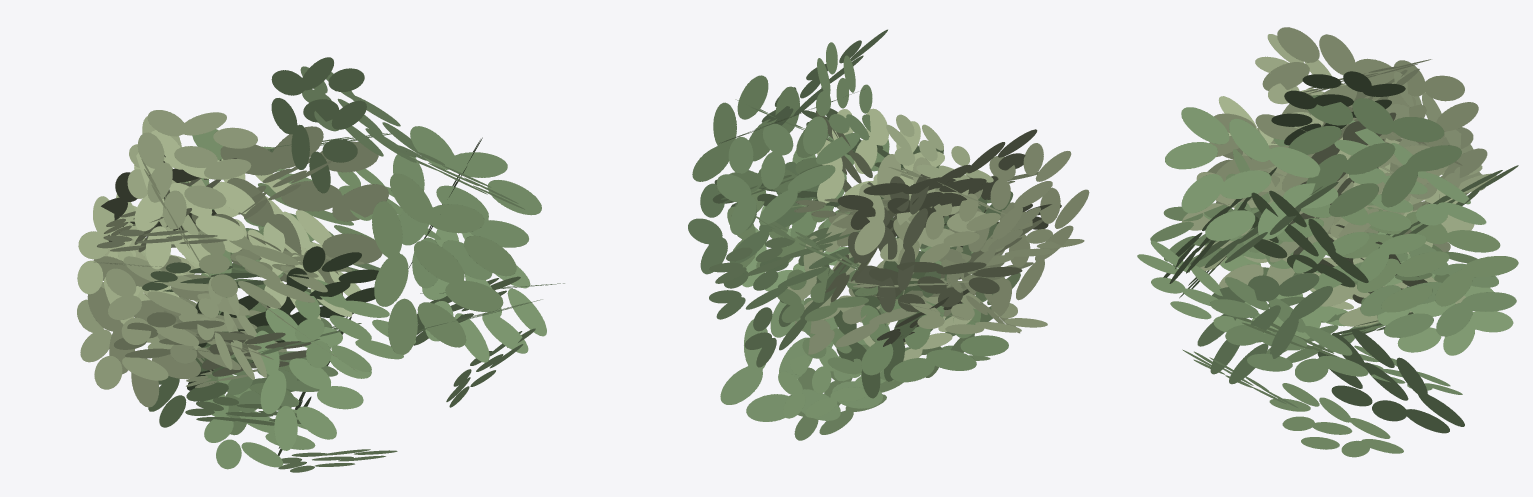
Rendered from campus-tree--7_-7-far.glb.
3 views of the same model, side by side, from view 1: azimuth 30°, elevation 25°; view 2: azimuth 150°, elevation 25°; view 3: azimuth 270°, elevation 25° (orthographic). The views are drawn at different scales.
Visible parts, largest first — view 1: Campus leaf canopy; view 2: Campus leaf canopy; view 3: Campus leaf canopy.
Boxes of the visible parts, bbox=[...] form: Campus leaf canopy: bbox=[77, 57, 564, 472]; Campus leaf canopy: bbox=[688, 29, 1089, 440]; Campus leaf canopy: bbox=[1137, 27, 1518, 457].
Bounding box in the file's own units: 6.18 × 5.62 × 4.59.
Materials: 1 (1 with a texture image).
